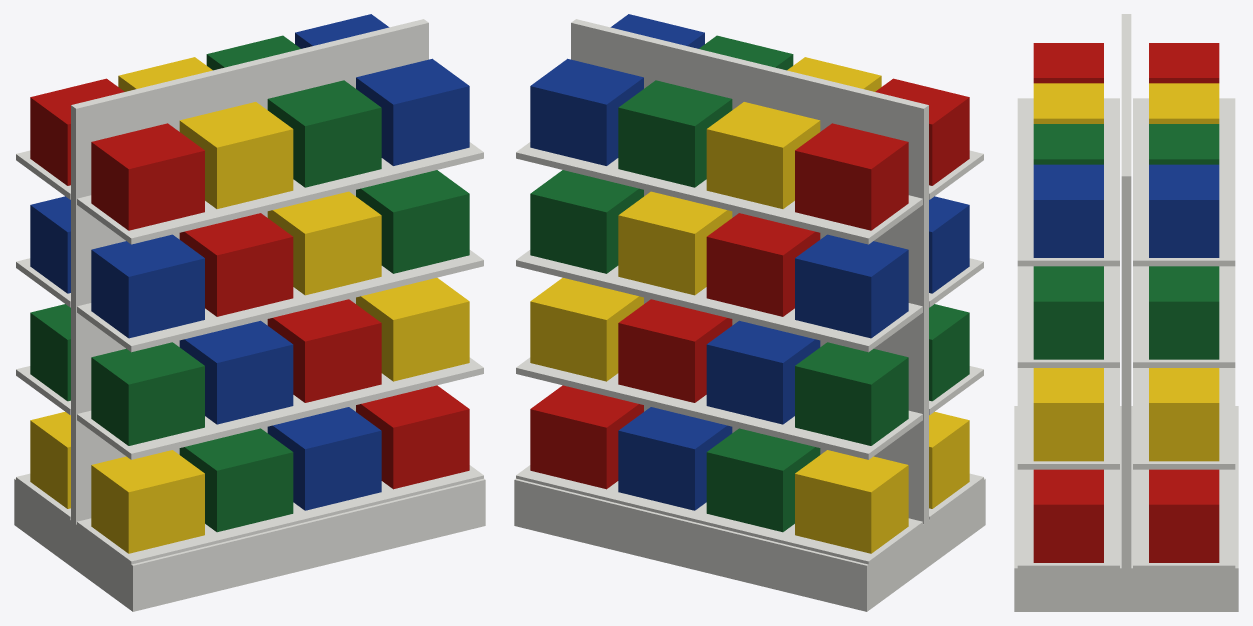
The model's file is airport.retail.gondola.glb.
3 renders of one model, left to right at view 1: azimuth 30°, elevation 25°; view 2: azimuth 150°, elevation 25°; view 3: azimuth 270°, elevation 25°, orthographic. The views are drawn at different scales.
Visible parts, largest first — view 1: main__laminate_white, main__plastic_yellow, main__plastic_green, main__plastic_blue, main__plastic_red; view 2: main__laminate_white, main__plastic_yellow, main__plastic_green, main__plastic_blue, main__plastic_red; view 3: main__laminate_white, main__plastic_green, main__plastic_yellow, main__plastic_red, main__plastic_blue.
Part boxes in pixels (left/top/right/bottom): main__laminate_white: left=14, top=19, right=485, bottom=611; main__plastic_yellow: left=30, top=57, right=469, bottom=553; main__plastic_green: left=30, top=35, right=469, bottom=532; main__plastic_blue: left=30, top=14, right=469, bottom=510; main__plastic_red: left=30, top=78, right=469, bottom=489; main__laminate_white: left=514, top=19, right=985, bottom=611; main__plastic_yellow: left=530, top=57, right=969, bottom=553; main__plastic_green: left=530, top=35, right=969, bottom=532; main__plastic_blue: left=530, top=14, right=969, bottom=510; main__plastic_red: left=530, top=78, right=969, bottom=489; main__laminate_white: left=1014, top=14, right=1238, bottom=611; main__plastic_green: left=1033, top=124, right=1219, bottom=359; main__plastic_yellow: left=1033, top=83, right=1219, bottom=461; main__plastic_red: left=1033, top=43, right=1219, bottom=562; main__plastic_blue: left=1033, top=164, right=1219, bottom=257.
Bounding box in the file's own units: 1.2 × 1.5 × 0.7.
